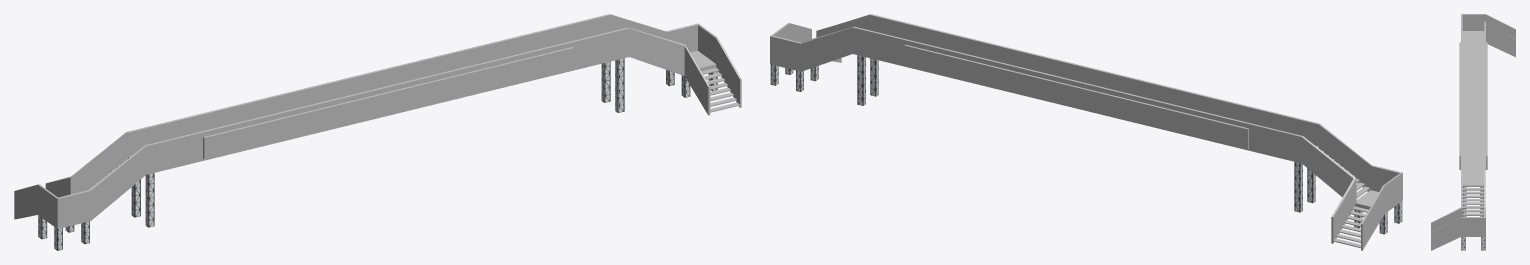
File: FootBridge-E-01.fbx
The picture shows the model from 3 angles, left to right: view 1: azimuth 30°, elevation 25°; view 2: azimuth 150°, elevation 25°; view 3: azimuth 270°, elevation 25°; orthographic projection. The views are drawn at different scales.
Parts seen in each view (by area): view 1: FootBridge-D; view 2: FootBridge-D; view 3: FootBridge-D.
Boxes of the visible parts, box(x1,y1,x2,y2) form: FootBridge-D: box(14, 14, 741, 250); FootBridge-D: box(770, 14, 1402, 250); FootBridge-D: box(1431, 14, 1515, 250).
Size of the model in its own units: 5804 by 701 by 1021.
